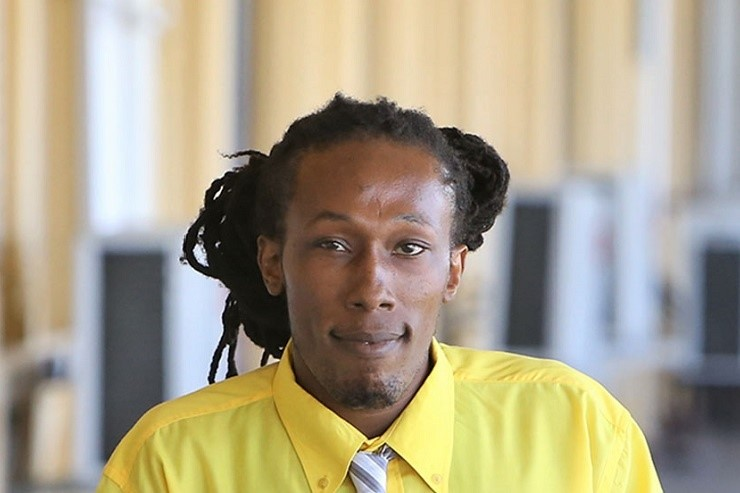face_no_mask: (247, 131, 474, 415)
